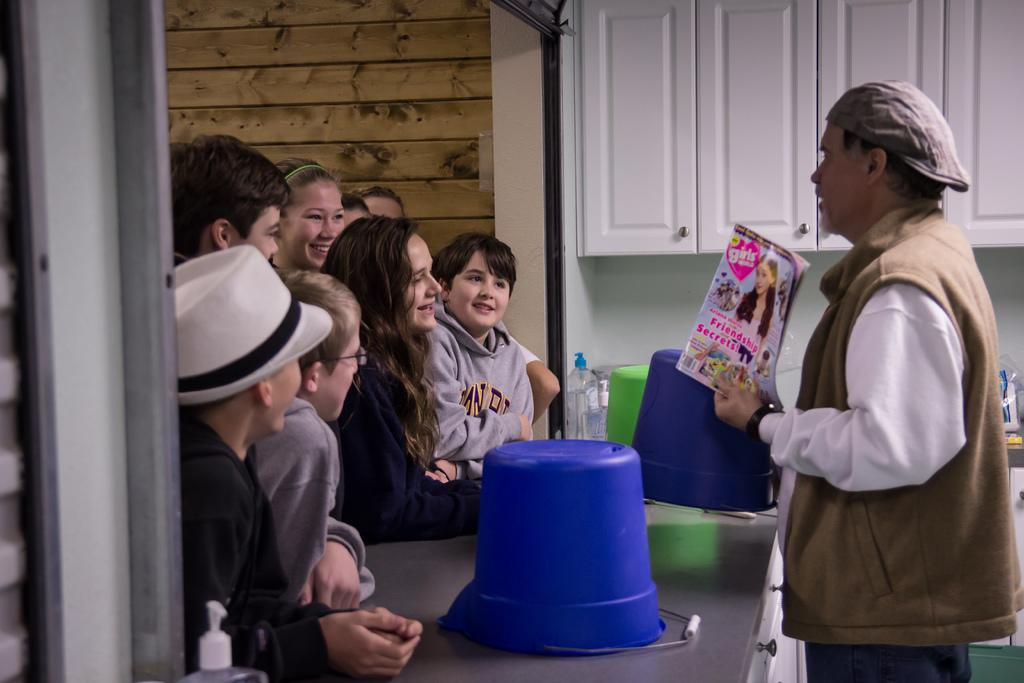Hat: (171, 239, 330, 412)
